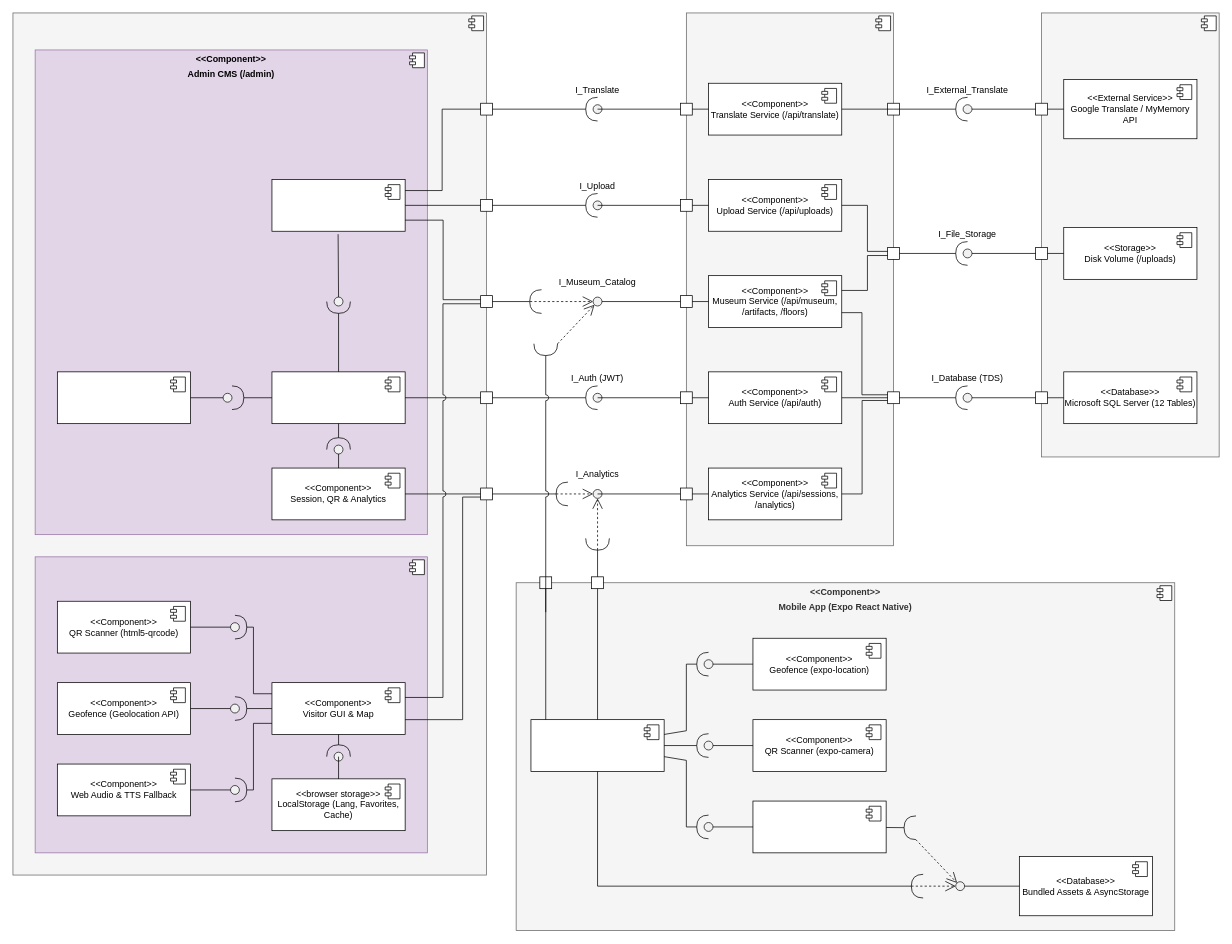
Image size: 1232x944. Some labels were removed from this diagram. The box of each missing label's shape, as (x1, y1, x2, y2) in pixels:
<<browser storage>> LocalStorage (JWT, Login Lock): (57, 371, 191, 424)
<<Component>> Admin Auth Guard: (271, 371, 405, 424)
<<Component>> Application Server (Node.js / Express): (686, 12, 894, 546)
<<Component>> Artifact, Map & Audio CRUD: (271, 179, 405, 231)
<<Component>> Audio Player (expo-audio): (752, 800, 886, 853)
<<Component>> Mobile Tabs & Detail UI: (530, 719, 664, 771)
<<Component>> Storage & External: (1041, 12, 1219, 457)
<<Component>> Visitor Web: (34, 556, 427, 853)
<<Component>> Web Client (React 18 SPA): (12, 12, 487, 875)
